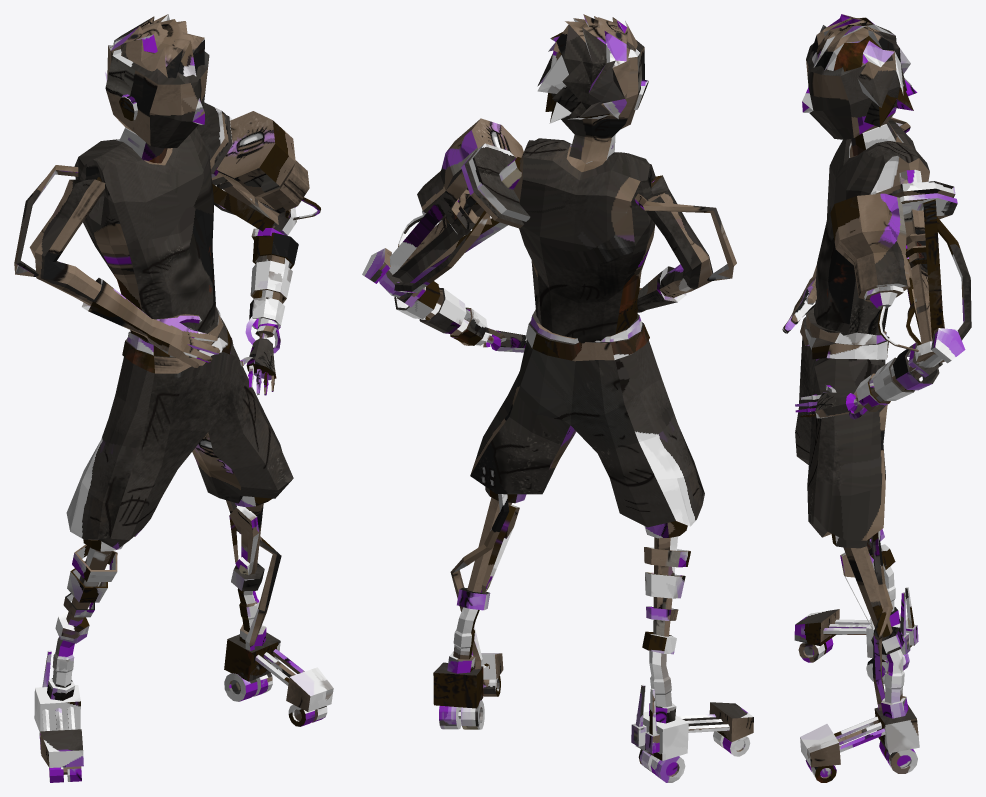
File: CyborgFINALAnimation_000065.obj
3 renders of one model, left to right at view 1: azimuth 30°, elevation 25°; view 2: azimuth 150°, elevation 25°; view 3: azimuth 270°, elevation 25°, orthographic. The views are drawn at different scales.
Visible parts, largest first — view 1: CyborgMesh_Cube.002; view 2: CyborgMesh_Cube.002; view 3: CyborgMesh_Cube.002.
Part boxes in pixels (x1,y1,x2,y2): CyborgMesh_Cube.002: (14,14,333,782); CyborgMesh_Cube.002: (362,14,753,782); CyborgMesh_Cube.002: (782,14,971,782).
Size of the model in its own units: 4.52 by 9.6 by 2.36.
